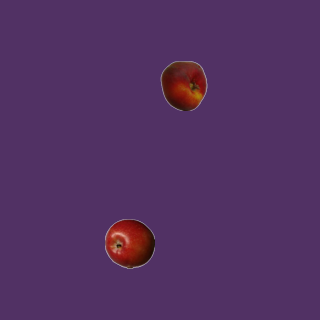Apple Braeburn: (104, 218, 154, 268)
Nectarine Flat: (158, 60, 208, 110)
